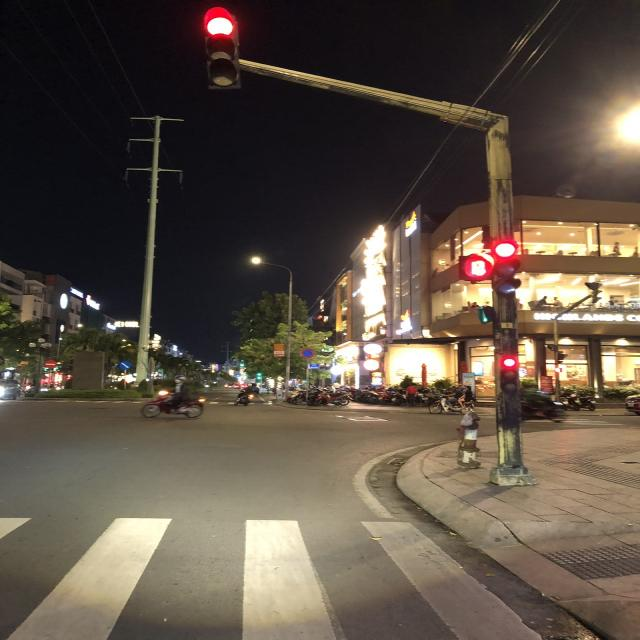Bien bao cam di nguoc chieu: (44, 359, 60, 371)
Bien bao cam do xe: (300, 347, 316, 360)
Bien bao huong phai di vong chuong ngai vat: (116, 360, 134, 372)
